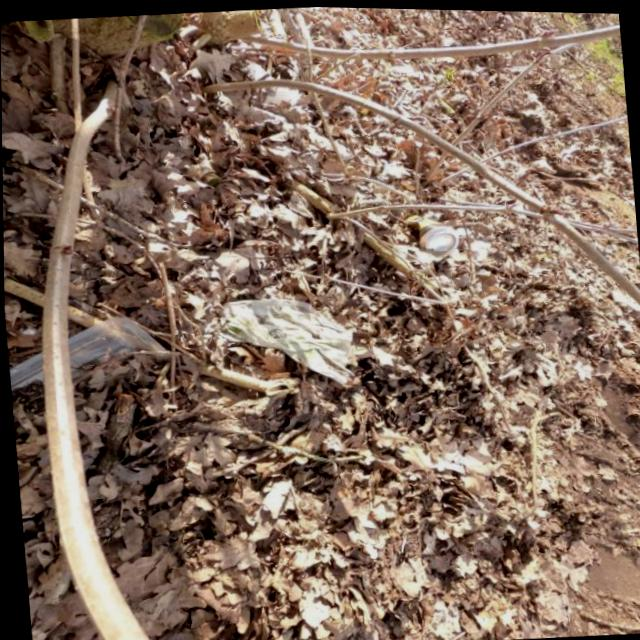Can-Metal: (401, 208, 459, 259)
Paper: (4, 309, 171, 411), (210, 289, 362, 393)
